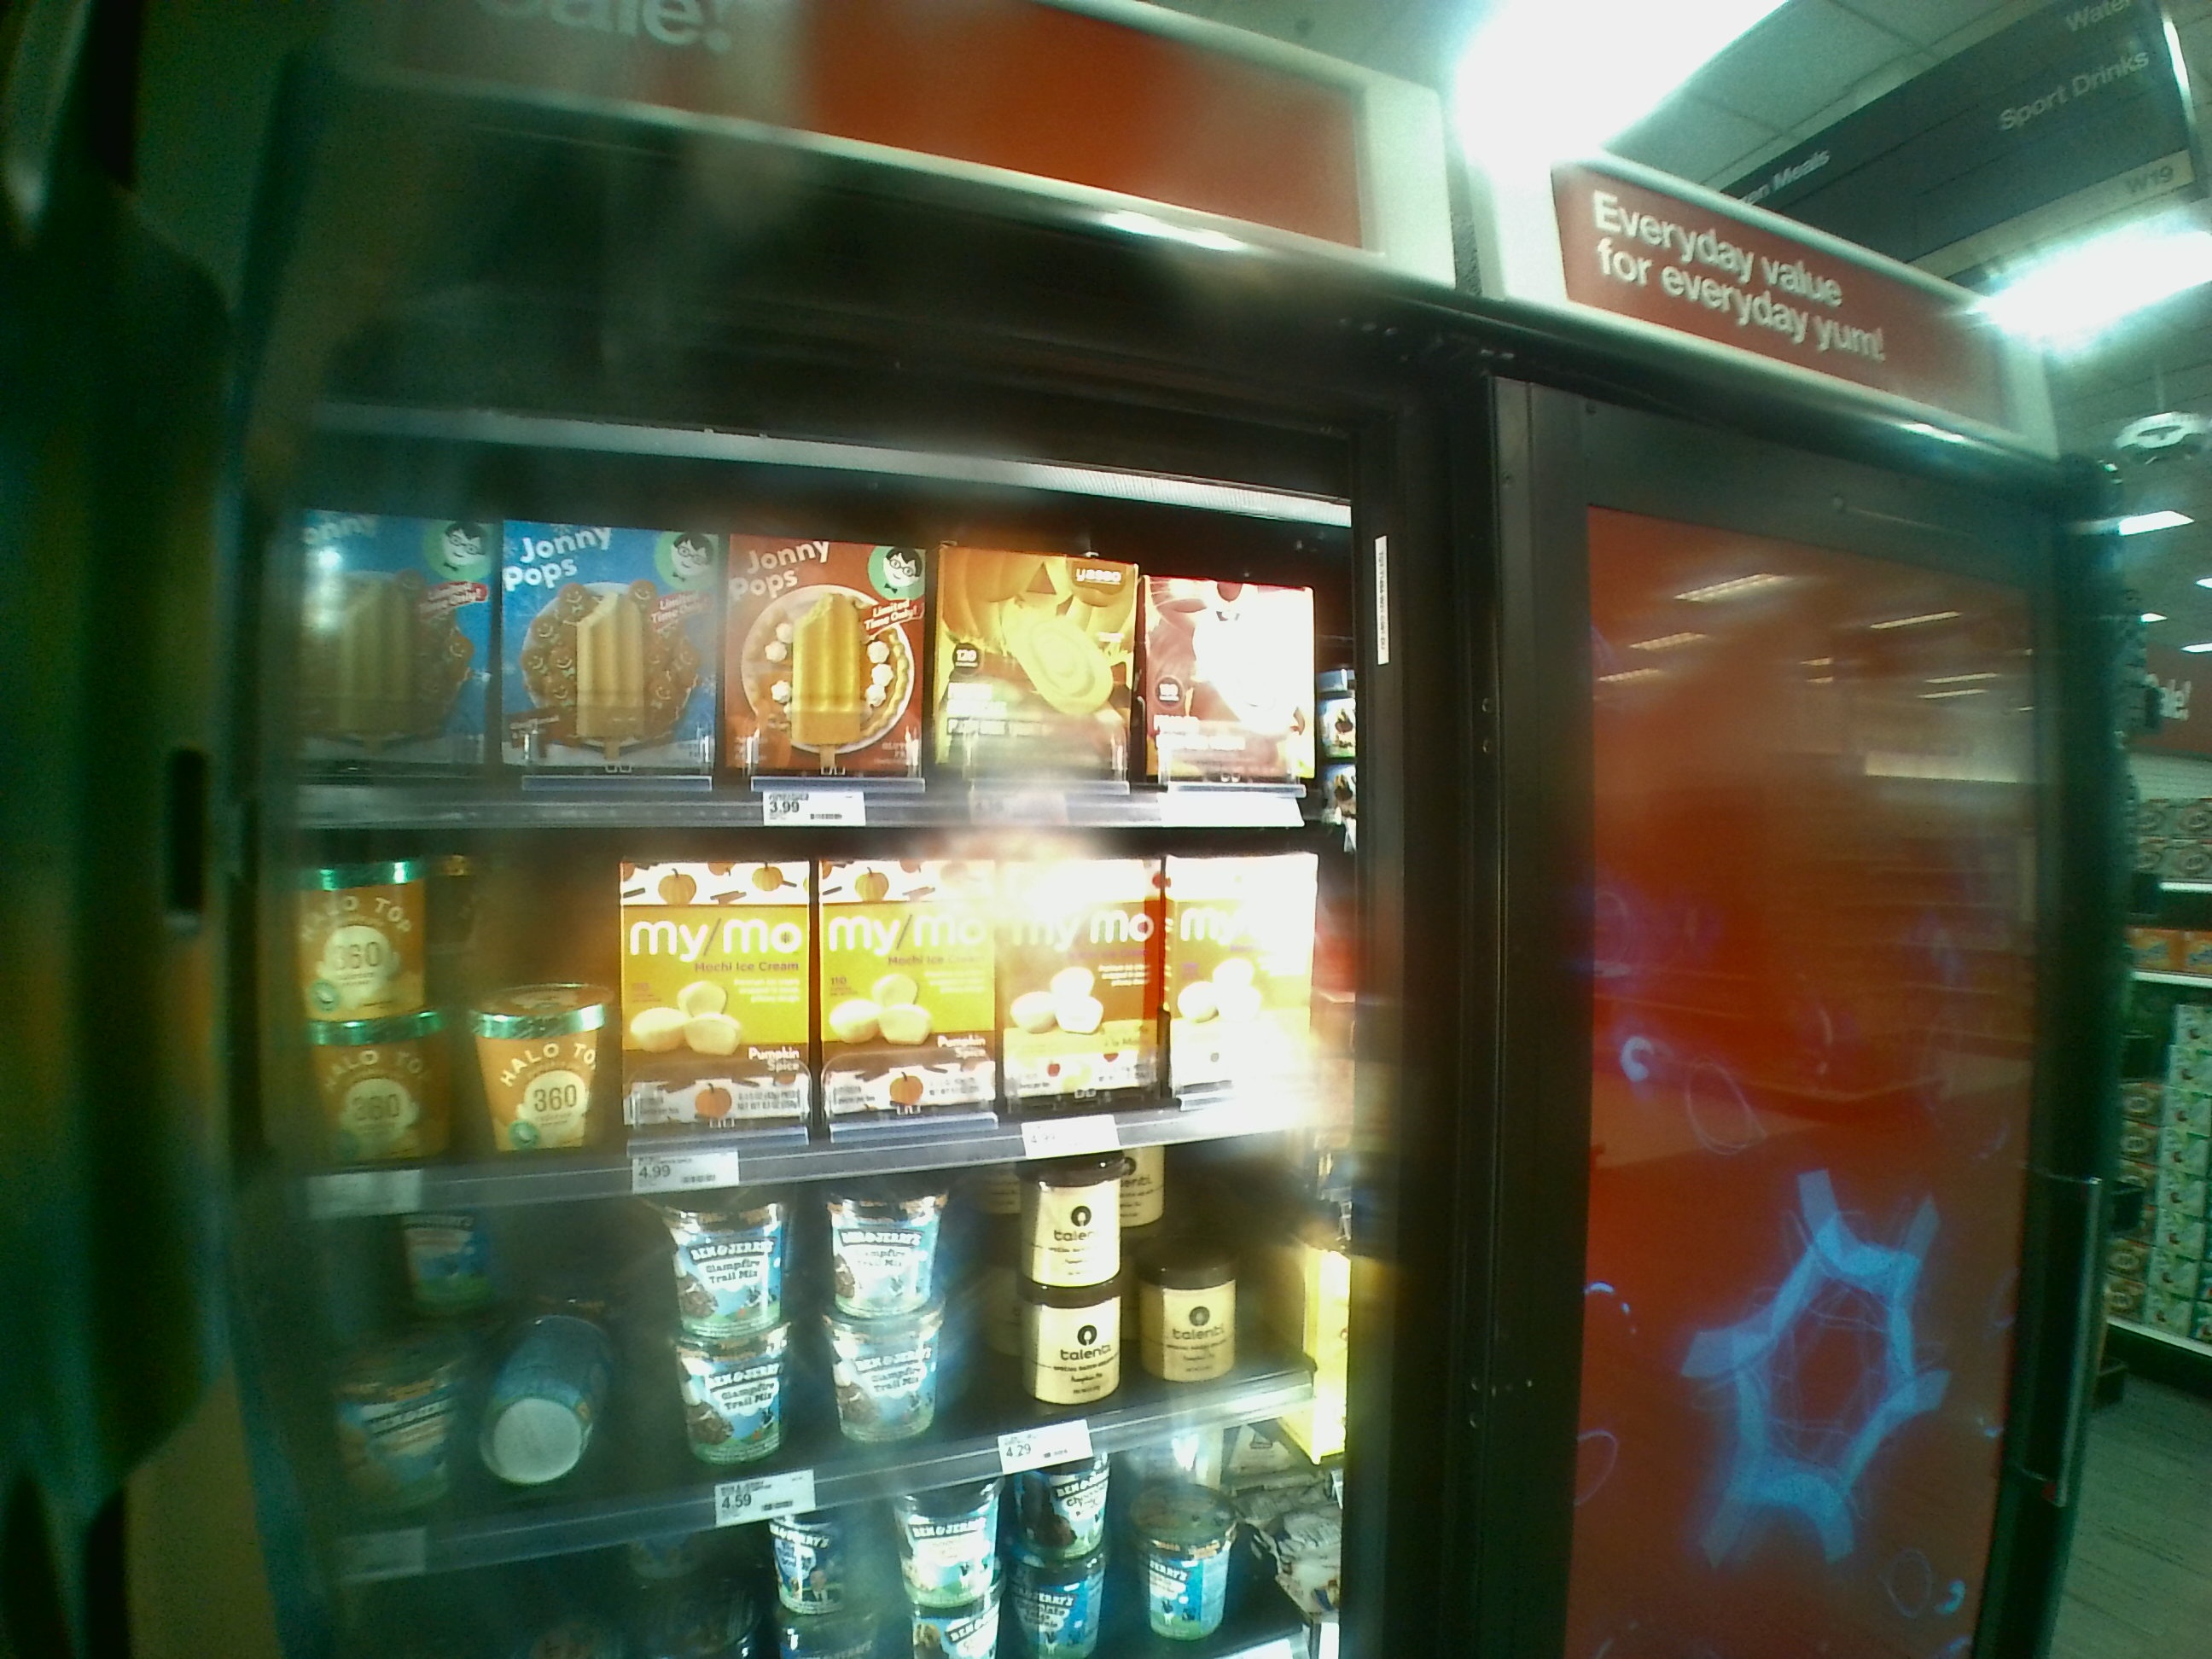shelf: (273, 1176, 1348, 1586), (256, 809, 1379, 1185), (256, 460, 1331, 840)
